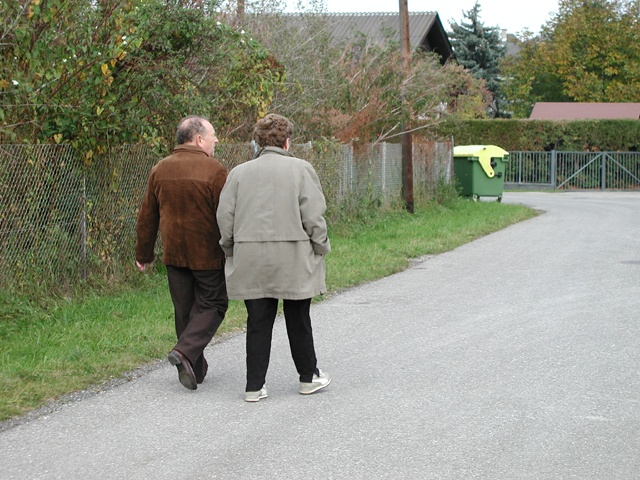person: (218, 120, 332, 400), (126, 117, 235, 388)
